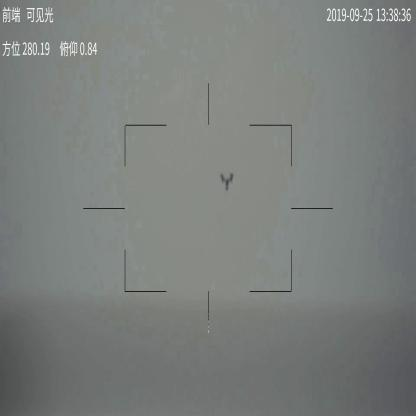uav: (217, 170, 236, 192)
